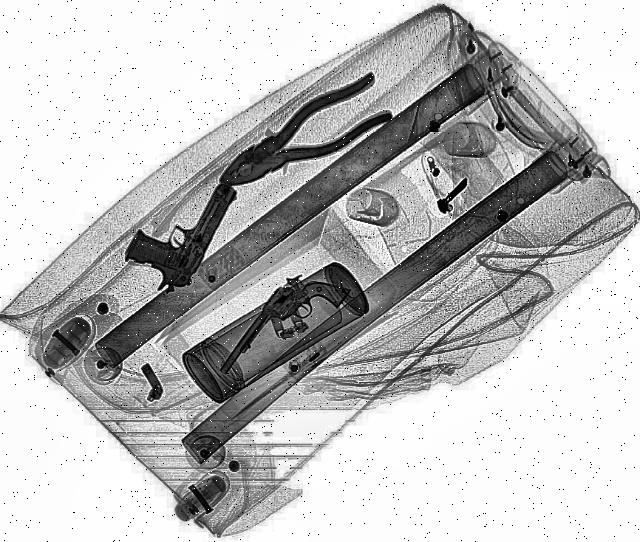Gun: (216, 266, 354, 396), (114, 164, 244, 300)
Pliers: (203, 68, 409, 203)
